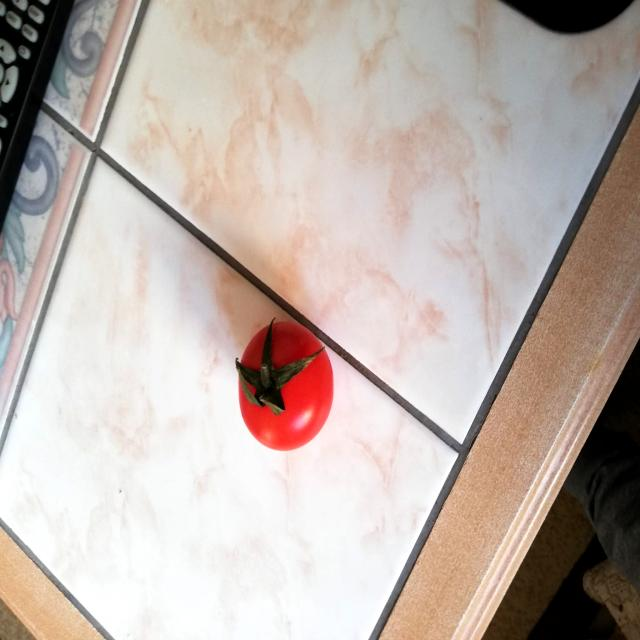tomato: (230, 303, 341, 458)
